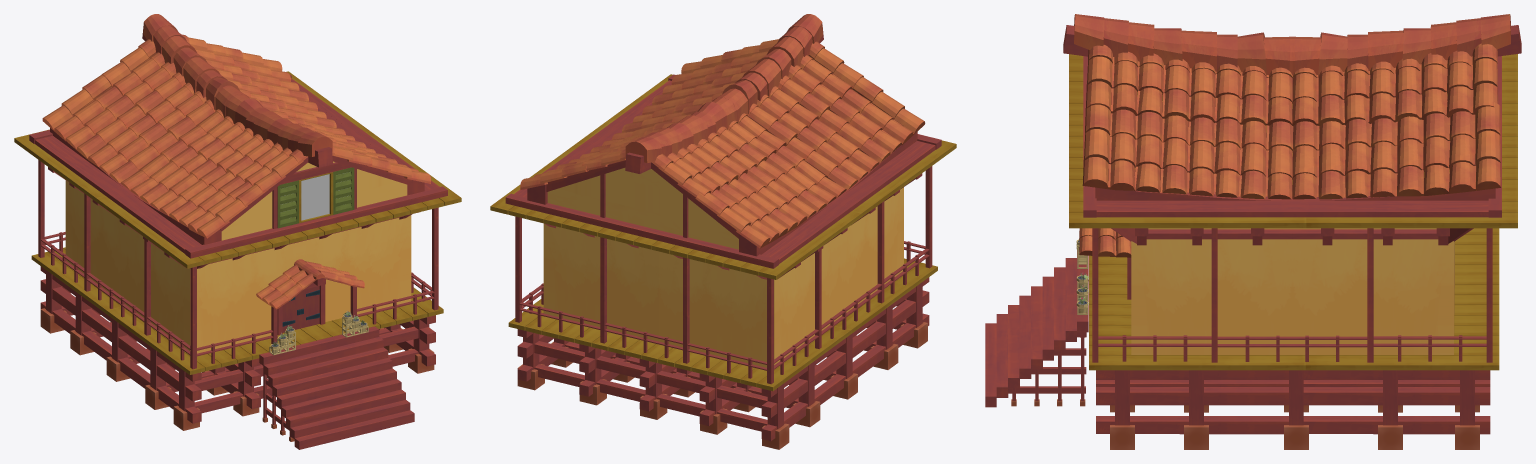
Rendered from Long's house modular house 2.fbx.
The picture shows the model from 3 angles, left to right: view 1: azimuth 30°, elevation 25°; view 2: azimuth 150°, elevation 25°; view 3: azimuth 270°, elevation 25°; orthographic projection. The views are drawn at different scales.
Parts seen in each view (by area): view 1: Cube.241; view 2: Cube.241; view 3: Cube.241.
Boxes of the visible parts, <box> form: Cube.241: <box>14,14,461,449</box>; Cube.241: <box>490,14,956,449</box>; Cube.241: <box>985,14,1521,449</box>.
Bounding box in the file's own units: 2606 × 2486 × 3406.
